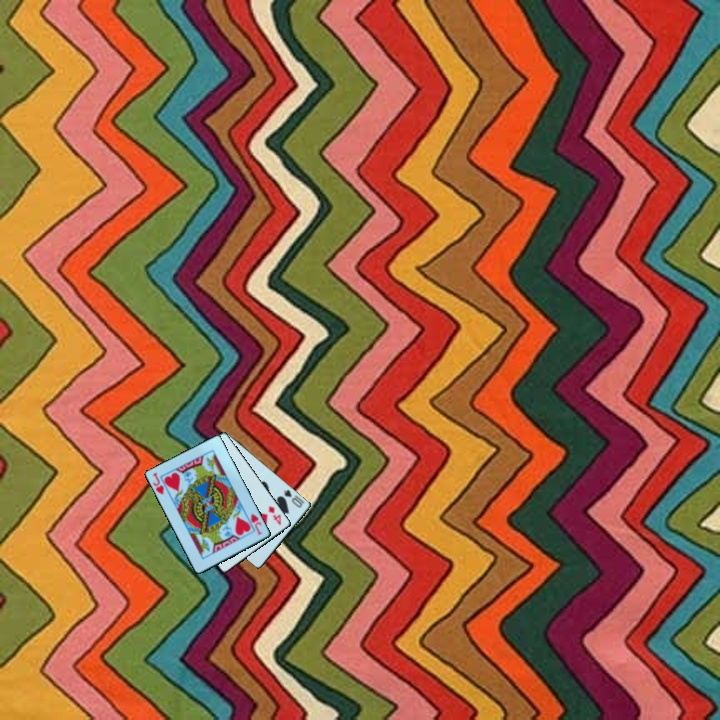10s: (281, 486, 307, 510)
4d: (265, 502, 284, 528)
Jh: (149, 469, 167, 498), (247, 510, 265, 538)
